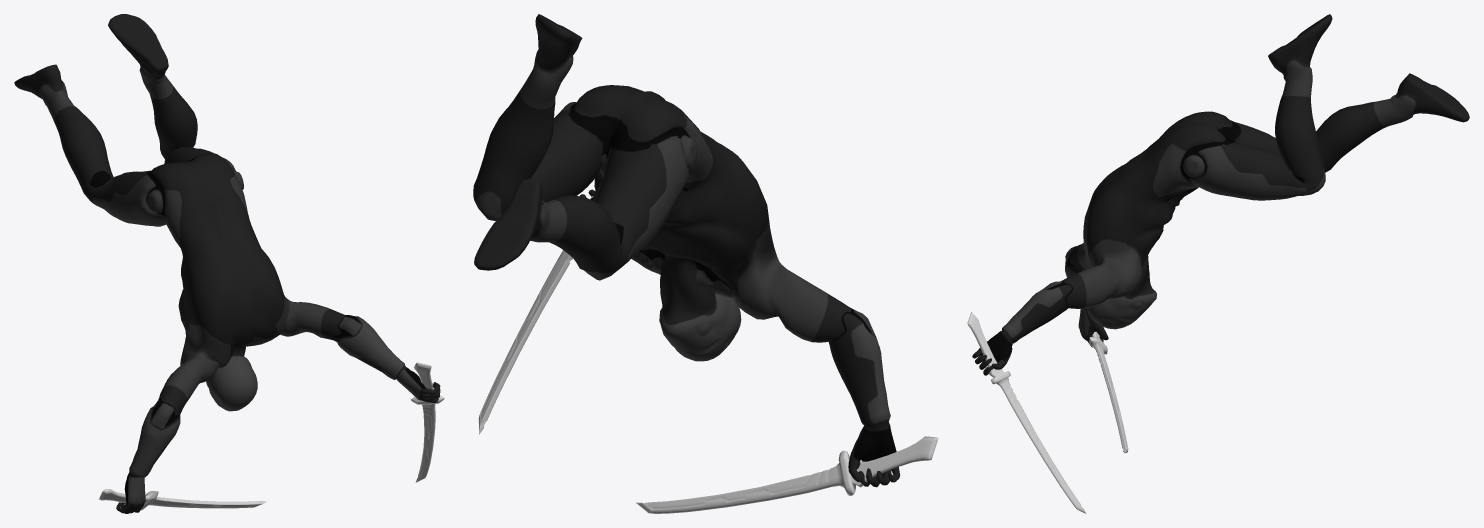
The picture shows the model from 3 angles, left to right: view 1: azimuth 30°, elevation 25°; view 2: azimuth 150°, elevation 25°; view 3: azimuth 270°, elevation 25°; orthographic projection. The views are drawn at different scales.
Parts seen in each view (by area): view 1: Cyborg_Ninja_Killer, Sword_l001, Sword_l; view 2: Cyborg_Ninja_Killer, Sword_l001, Sword_l; view 3: Cyborg_Ninja_Killer, Sword_l, Sword_l001.
Boxes of the visible parts, x1,y1,x2,y2 form: Cyborg_Ninja_Killer: (14,14,440,513); Sword_l001: (99,489,266,510); Sword_l: (411,362,444,482); Cyborg_Ninja_Killer: (473,14,899,487); Sword_l001: (636,436,938,513); Sword_l: (478,196,593,434); Cyborg_Ninja_Killer: (972,14,1469,375); Sword_l: (967,312,1085,513); Sword_l001: (1089,331,1128,453).
Bounding box in the file's own units: 140 × 177 × 192.
